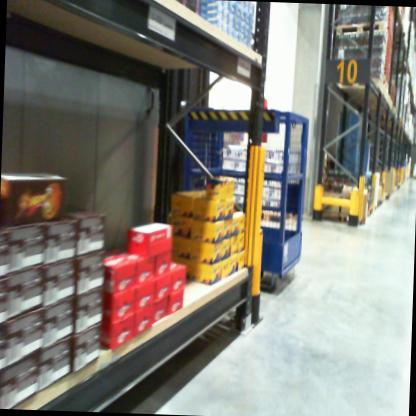pallet: (232, 199, 302, 227), (333, 17, 391, 43), (319, 208, 357, 226), (366, 205, 375, 222)
